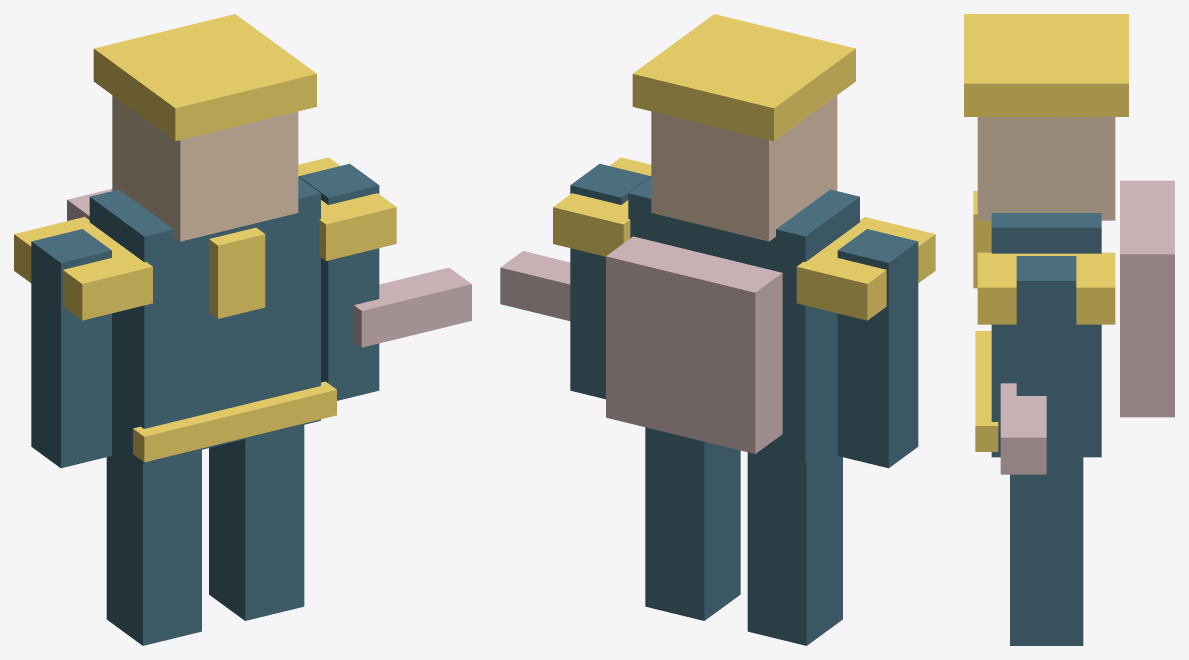
Rendered from 04_bex_ashvein_oracle_under_main.glb.
The picture shows the model from 3 angles, left to right: view 1: azimuth 30°, elevation 25°; view 2: azimuth 150°, elevation 25°; view 3: azimuth 270°, elevation 25°; orthographic projection.
Parts seen in each view (by area): view 1: Bex Ashvein, Oracle under Main; view 2: Bex Ashvein, Oracle under Main; view 3: Bex Ashvein, Oracle under Main.
Part boxes in pixels (x1,y1,x2,y2): Bex Ashvein, Oracle under Main: (14, 14, 471, 645); Bex Ashvein, Oracle under Main: (500, 14, 935, 645); Bex Ashvein, Oracle under Main: (964, 14, 1174, 645).
Bounding box in the file's own units: 1.12 × 1.46 × 0.5021.
